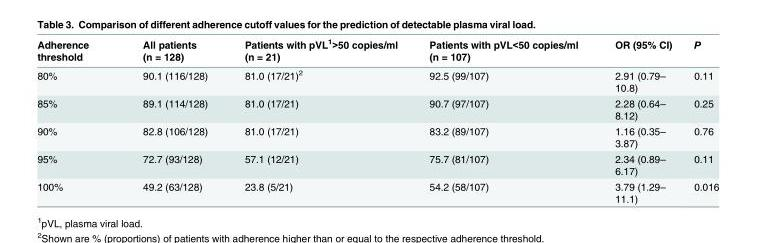table: (36, 36, 718, 204)
table column: (225, 36, 412, 204), (412, 36, 595, 204), (115, 36, 225, 204), (595, 36, 682, 204), (36, 36, 115, 204), (682, 36, 718, 204)
table column header: (36, 36, 718, 64)
table row: (36, 64, 718, 95), (36, 36, 718, 64), (36, 122, 718, 150), (36, 150, 718, 178), (36, 95, 718, 122), (36, 178, 718, 204)
